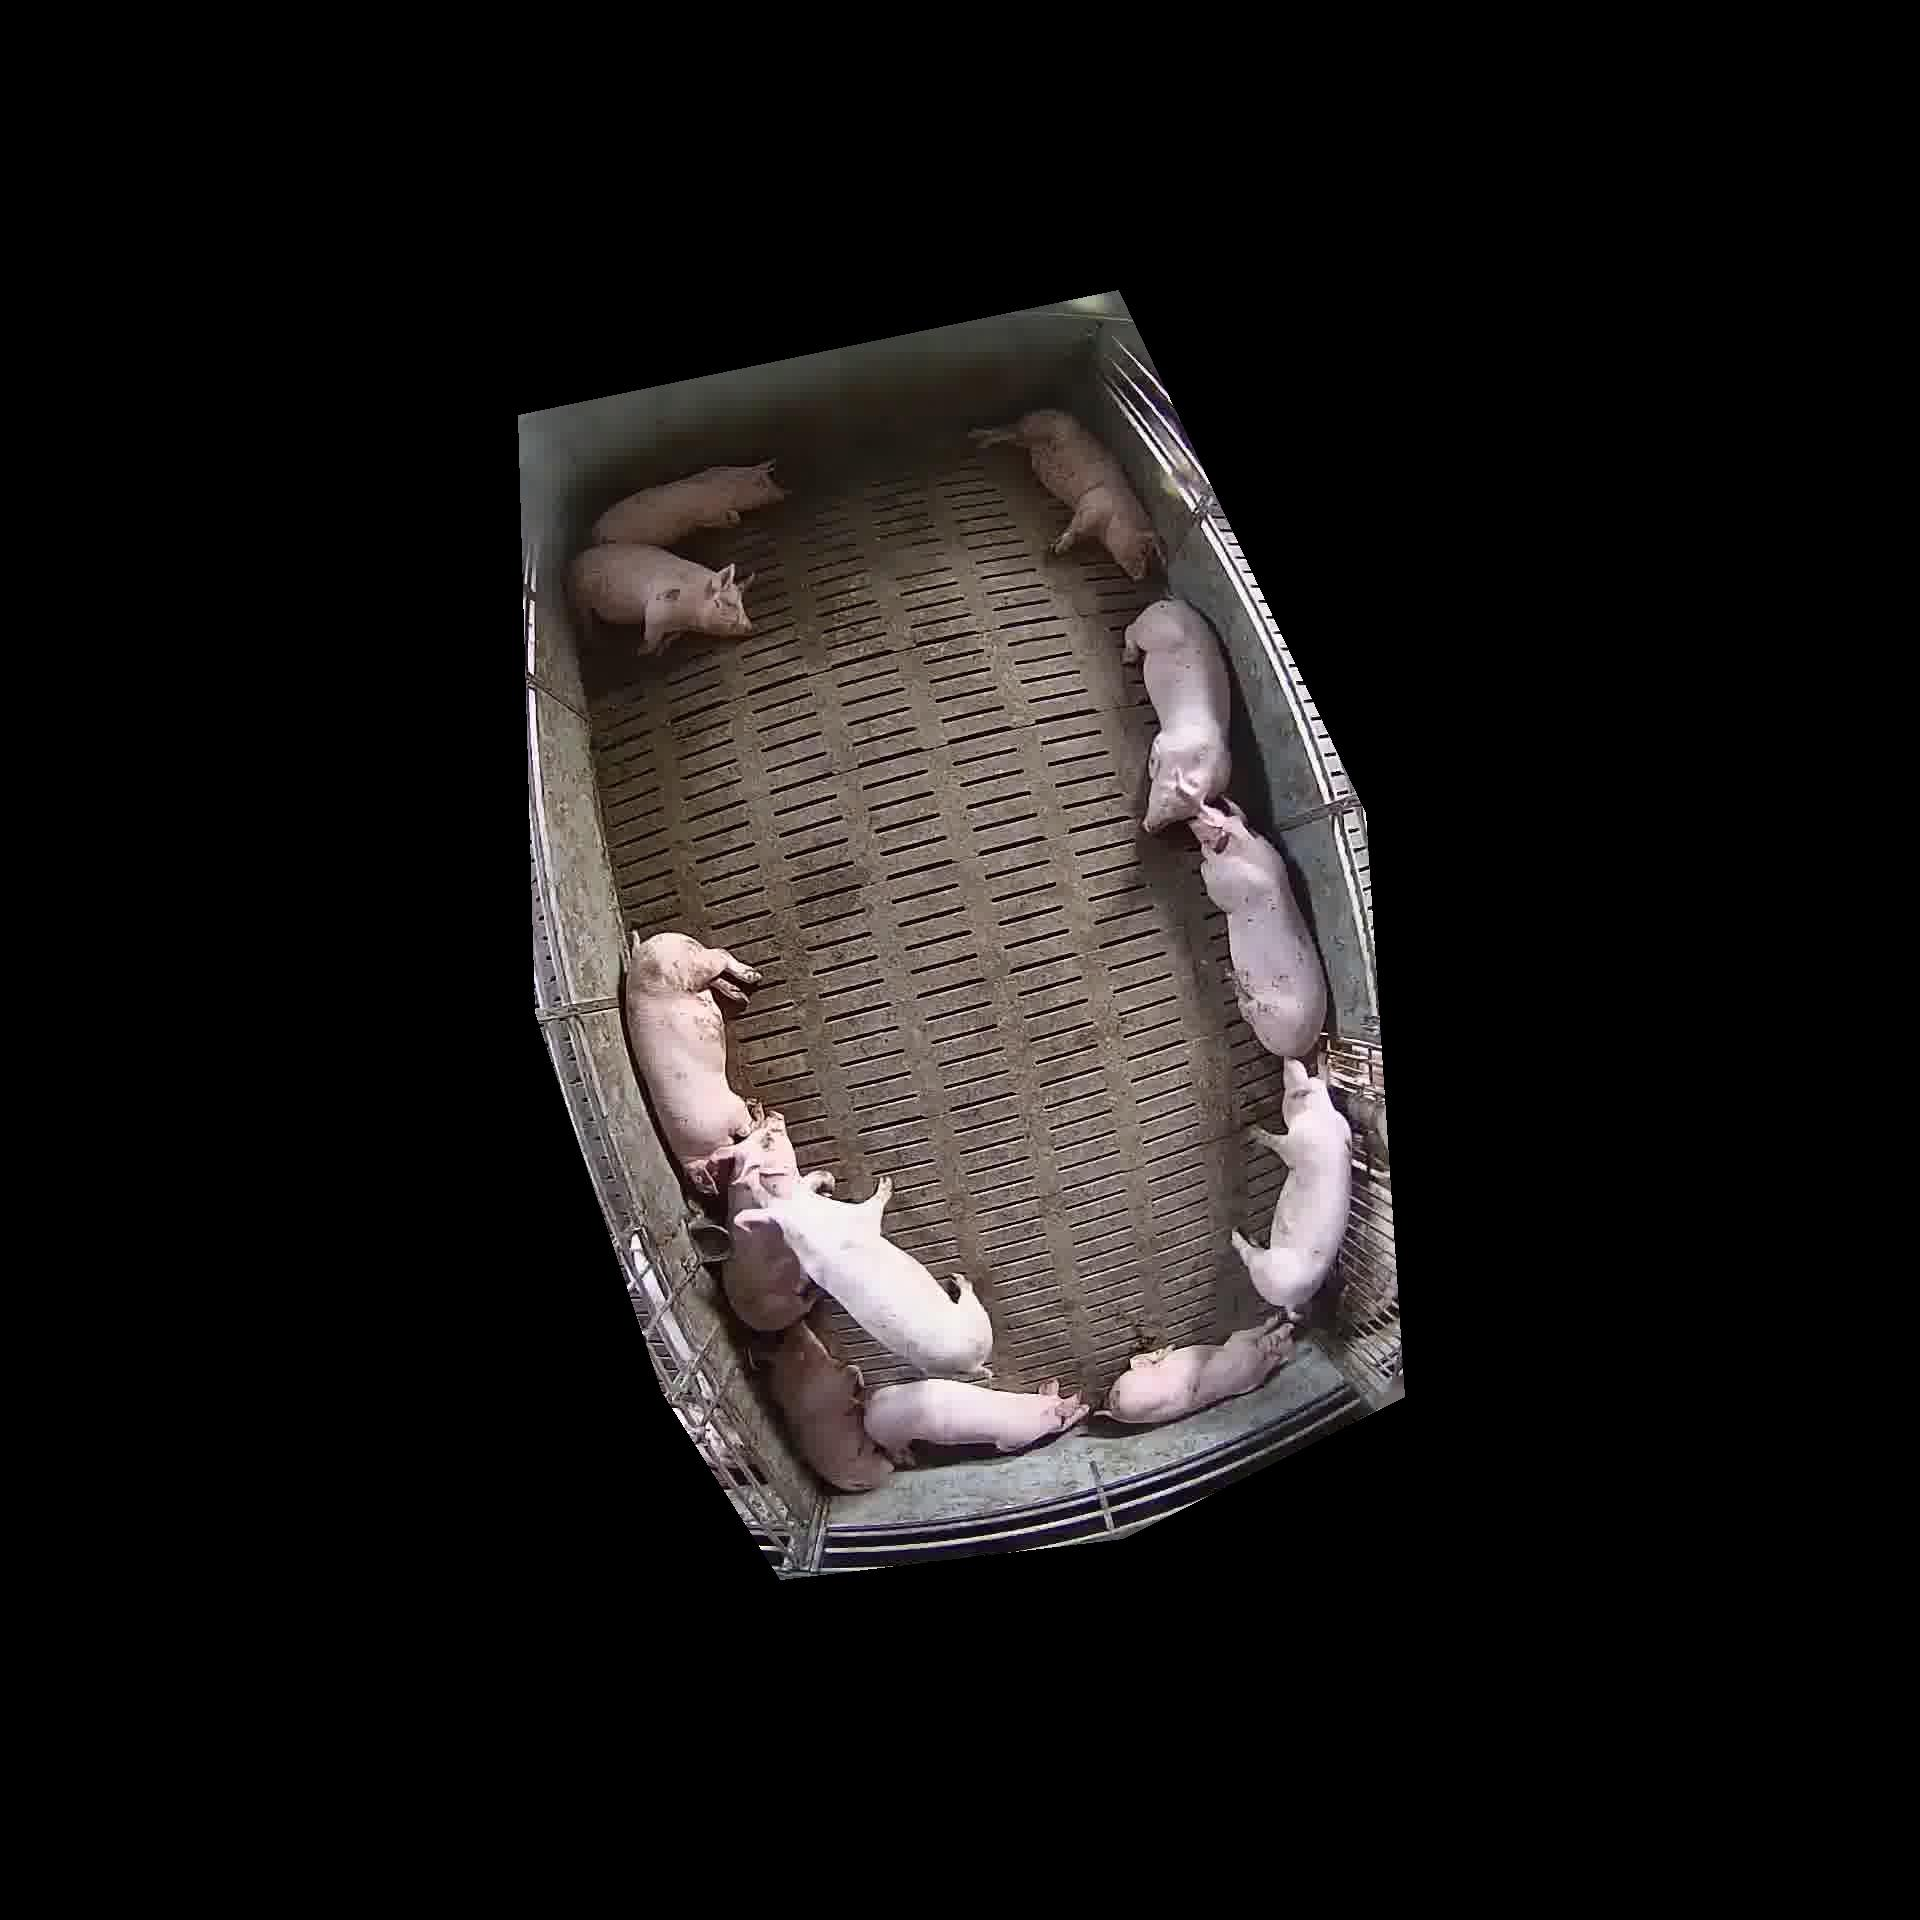pig: (737, 1175, 992, 1373), (1190, 800, 1327, 1057), (624, 934, 758, 1190), (971, 410, 1159, 578), (1233, 1058, 1350, 1313), (1125, 600, 1231, 832), (716, 1111, 828, 1327), (768, 1320, 891, 1491), (1104, 1315, 1294, 1422), (570, 543, 751, 652), (863, 1378, 1088, 1461), (593, 461, 784, 547)
